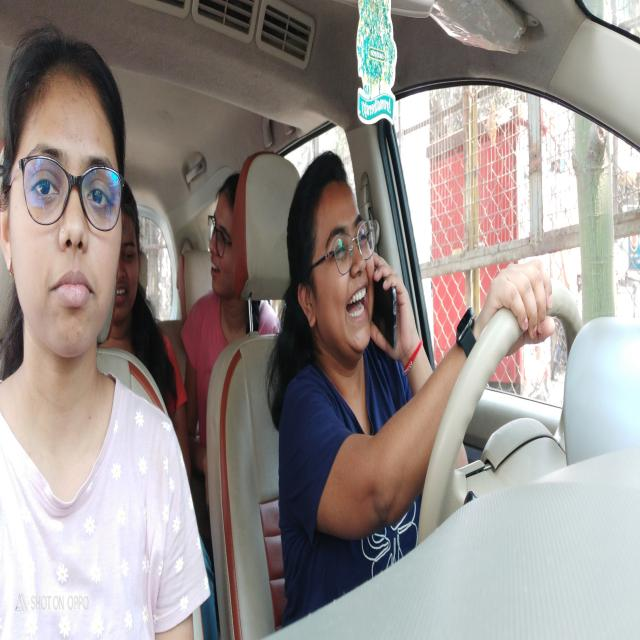mobile: (372, 262, 408, 367)
person: (0, 28, 127, 364), (285, 156, 377, 362), (114, 178, 144, 329), (210, 175, 239, 322)
